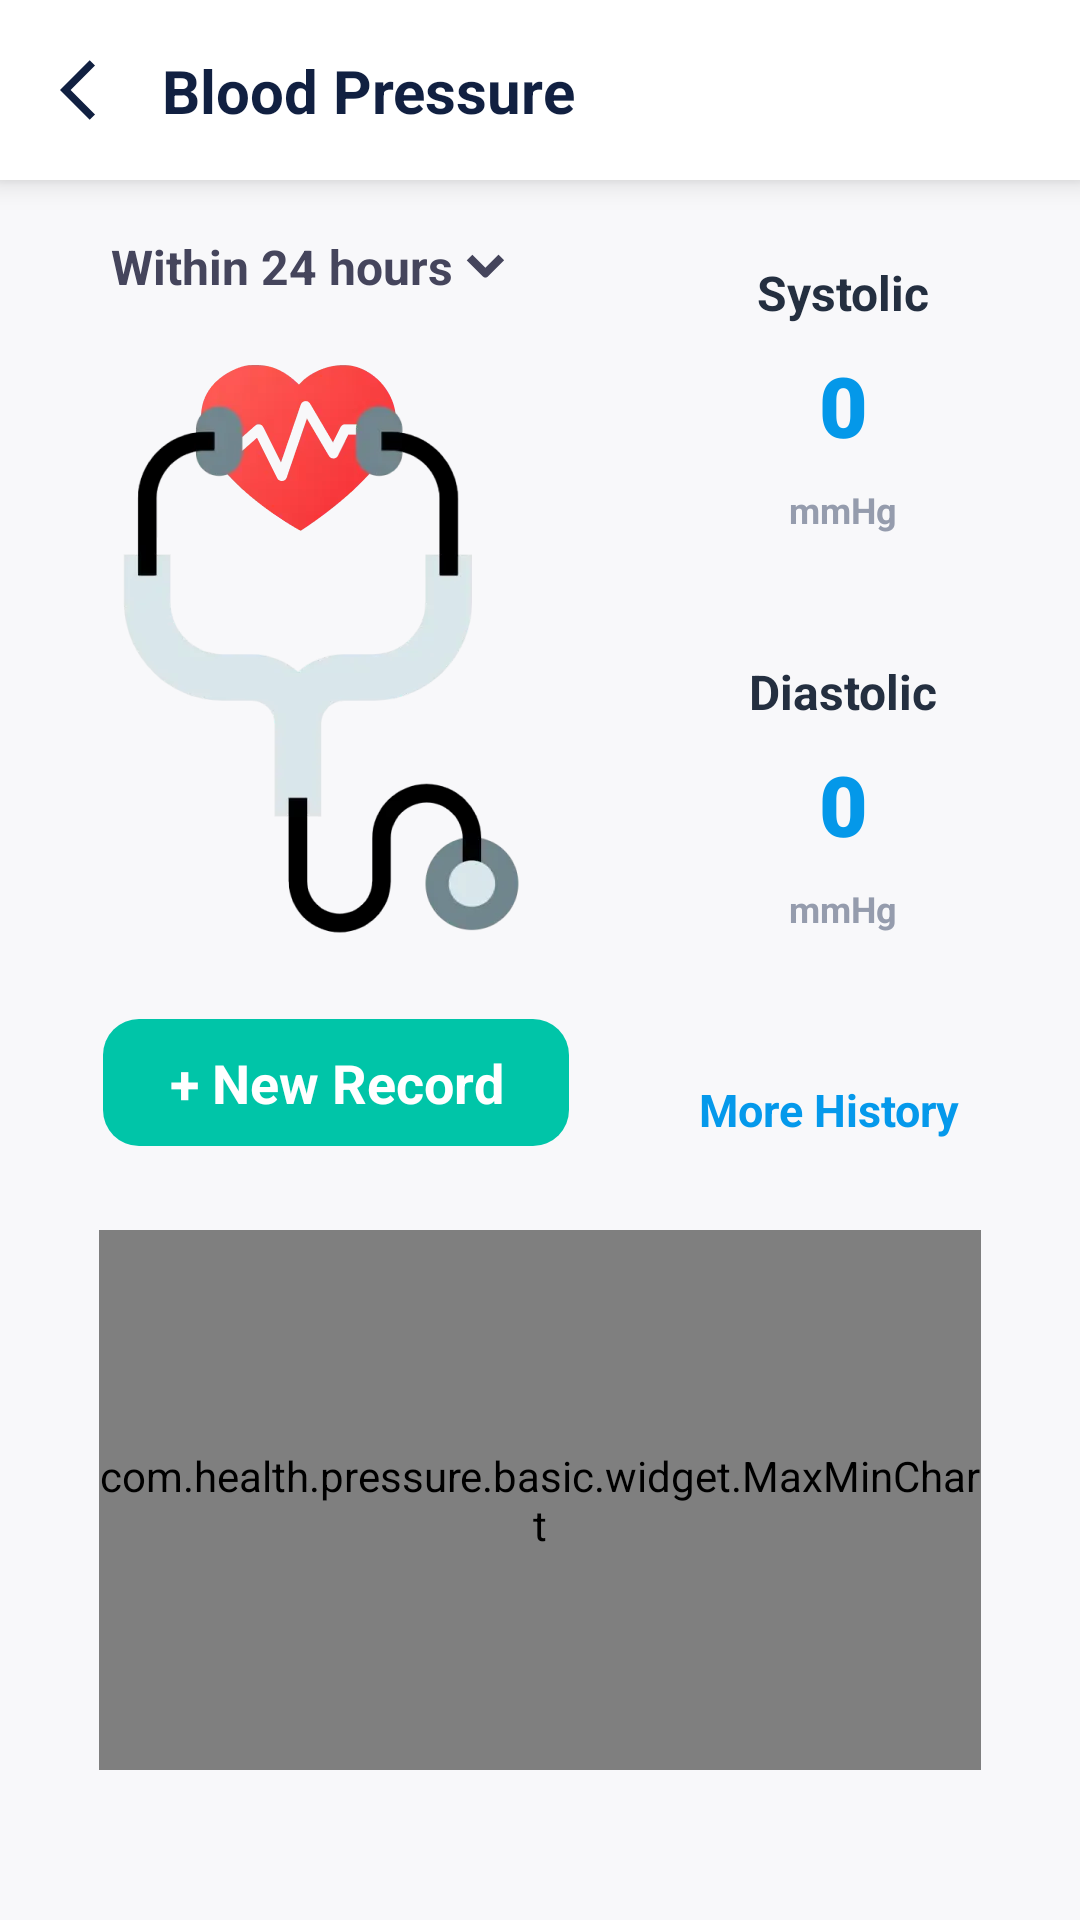

Named icons in this screenshot (1080 × 1920) and their centers, point (x, y):
arrow left: point (77, 90)
